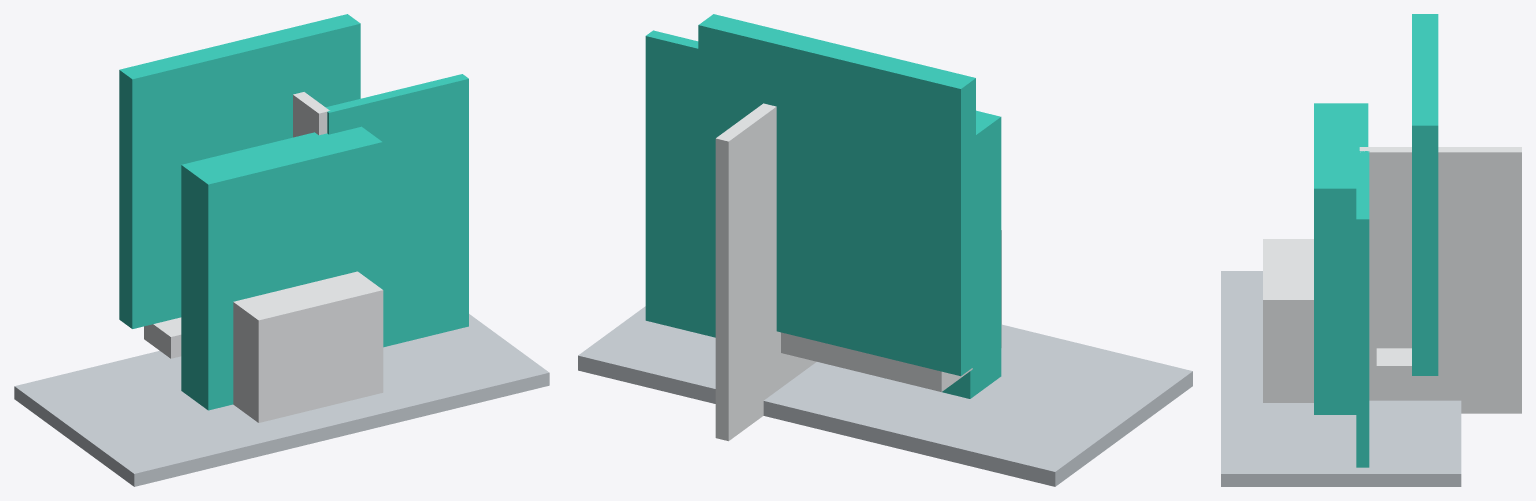
3 renders of one model, left to right at view 1: azimuth 30°, elevation 25°; view 2: azimuth 150°, elevation 25°; view 3: azimuth 270°, elevation 25°, orthographic. The views are drawn at different scales.
Visible parts, largest first — view 1: Exhibition Booth Concept; view 2: Exhibition Booth Concept; view 3: Exhibition Booth Concept.
Boxes of the visible parts, left/top/right/bottom form: Exhibition Booth Concept: left=14, top=14, right=549, bottom=486; Exhibition Booth Concept: left=578, top=14, right=1192, bottom=486; Exhibition Booth Concept: left=1221, top=14, right=1521, bottom=486.
Bounding box in the file's own units: 4 × 2.9 × 2.5.
